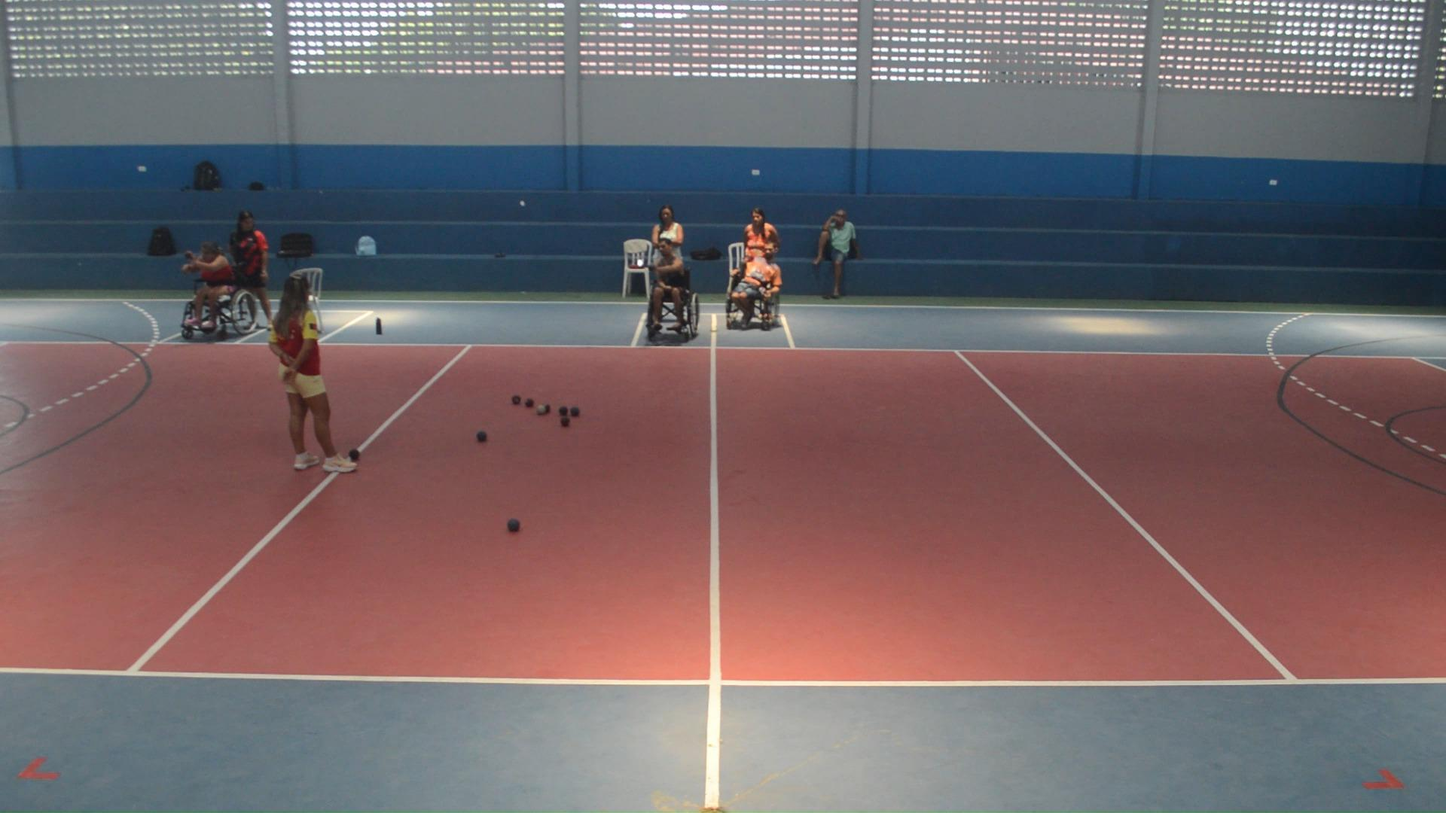blue_ball: (506, 518, 521, 533), (476, 430, 487, 442), (570, 406, 579, 416)
red_ball: (561, 416, 570, 427), (512, 394, 521, 405), (525, 397, 534, 407)
white_ball: (536, 404, 546, 415)
